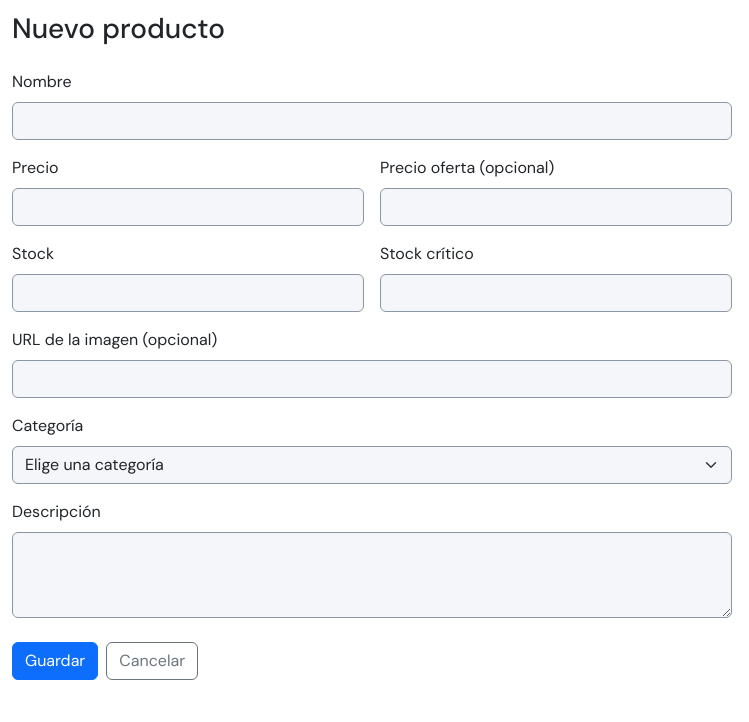
Test case: ProductoForm › no acepta un precio de 0
The width and height of the screenshot is (749, 722).
Step 1. Type "Mouse Pad XL" into the field labelled "Nombre" → (372, 121), box top-left (12, 102), bottom-right (732, 140)
Step 2. Type "19990" into the number field labelled "Precio" → (188, 207), box top-left (12, 188), bottom-right (364, 226)
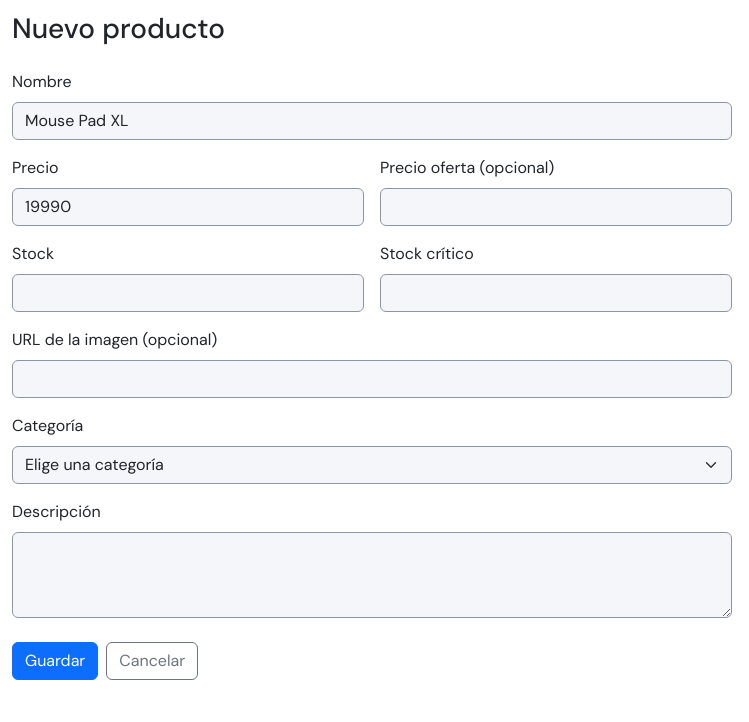
Step 3. Type "10" into the number field labelled "Stock" → (188, 293), box top-left (12, 274), bottom-right (364, 312)
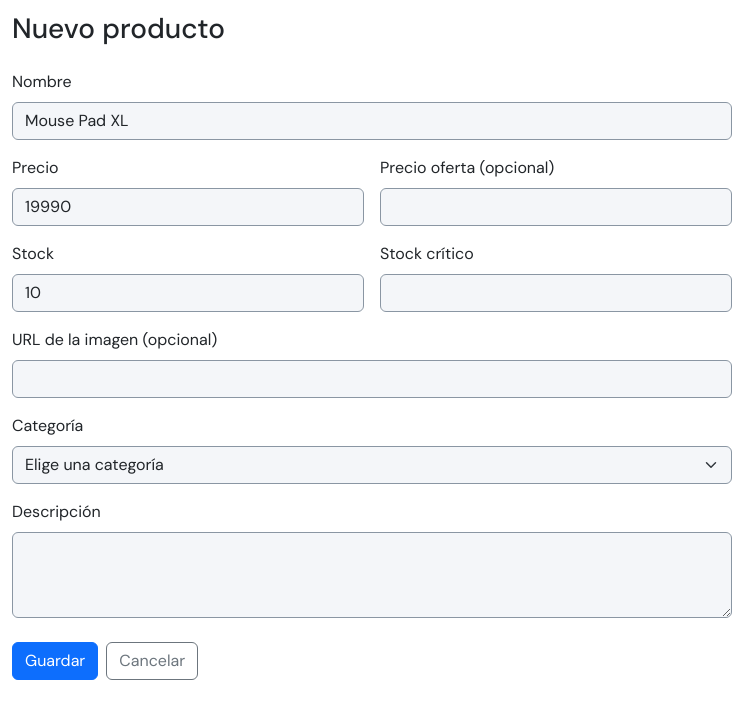
Step 4. Type "2" into the number field labelled "Stock crítico" → (556, 293), box top-left (380, 274), bottom-right (732, 312)
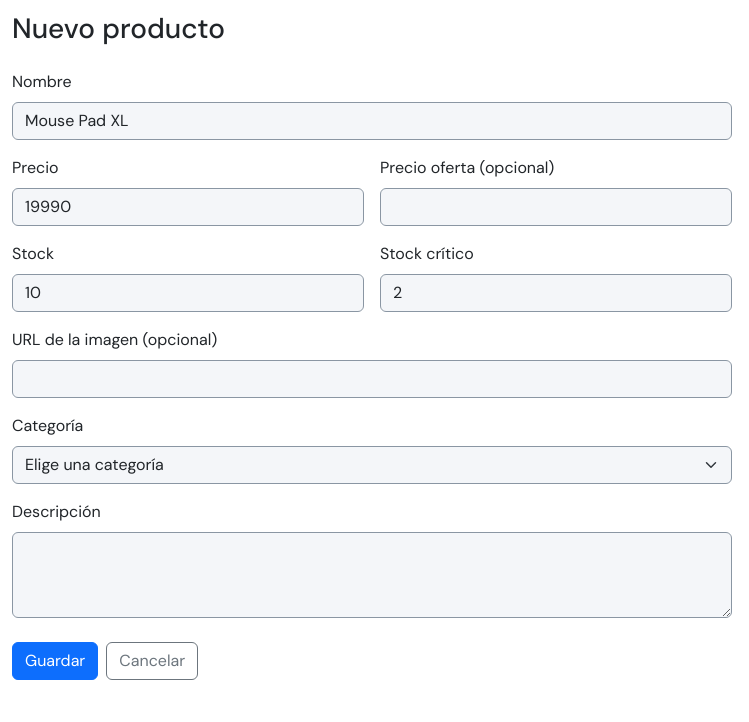
Step 5. Select "Periféricos" in the dropdown labelled "Categoría" → (372, 465), box top-left (12, 446), bottom-right (732, 484)
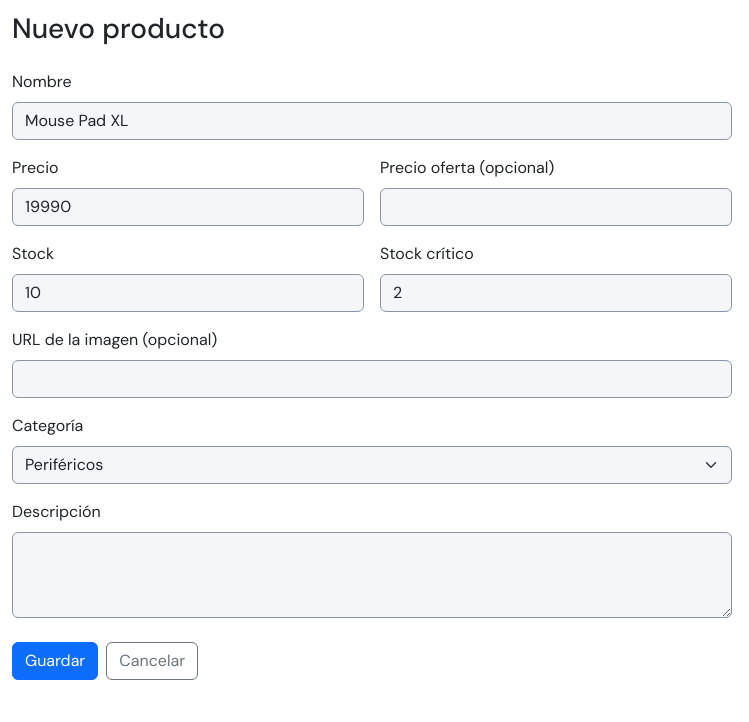
Step 6. Replace the text in the number field labelled "Precio" with "0" → (188, 207), box top-left (12, 188), bottom-right (364, 226)
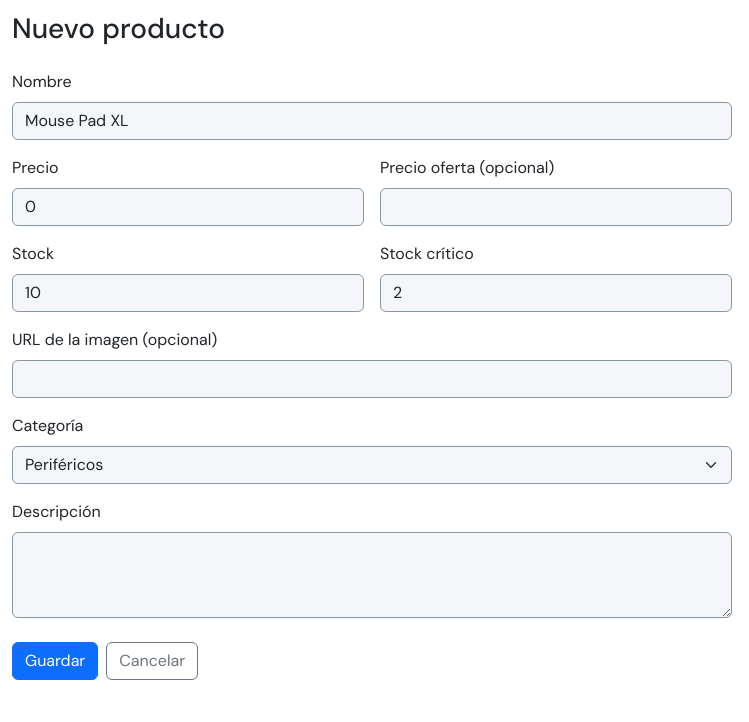
Step 7. Click the button "Guardar" → (55, 661), box top-left (12, 642), bottom-right (98, 680)
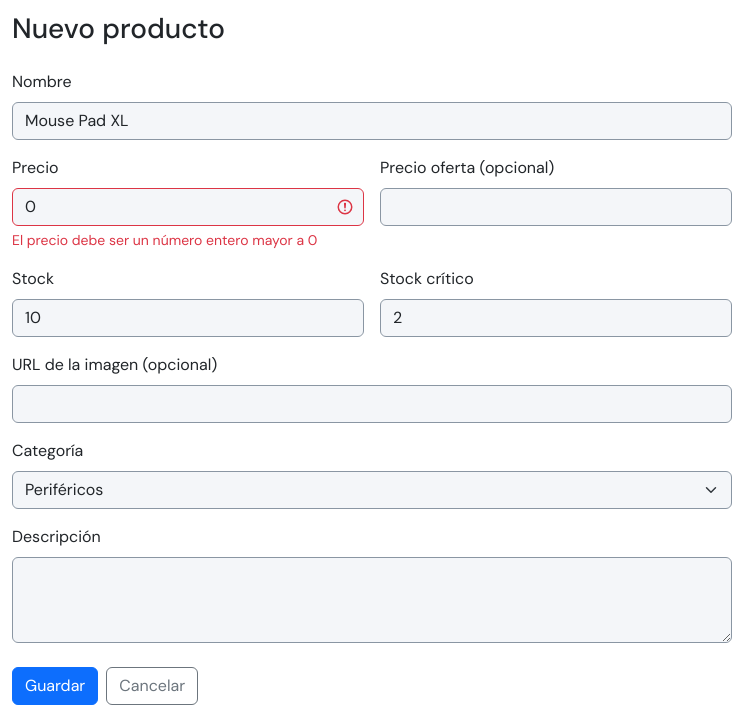
Check: the text "El precio debe ser un número entero mayor a 0" is shown, box top-left (12, 230), bottom-right (364, 251)
